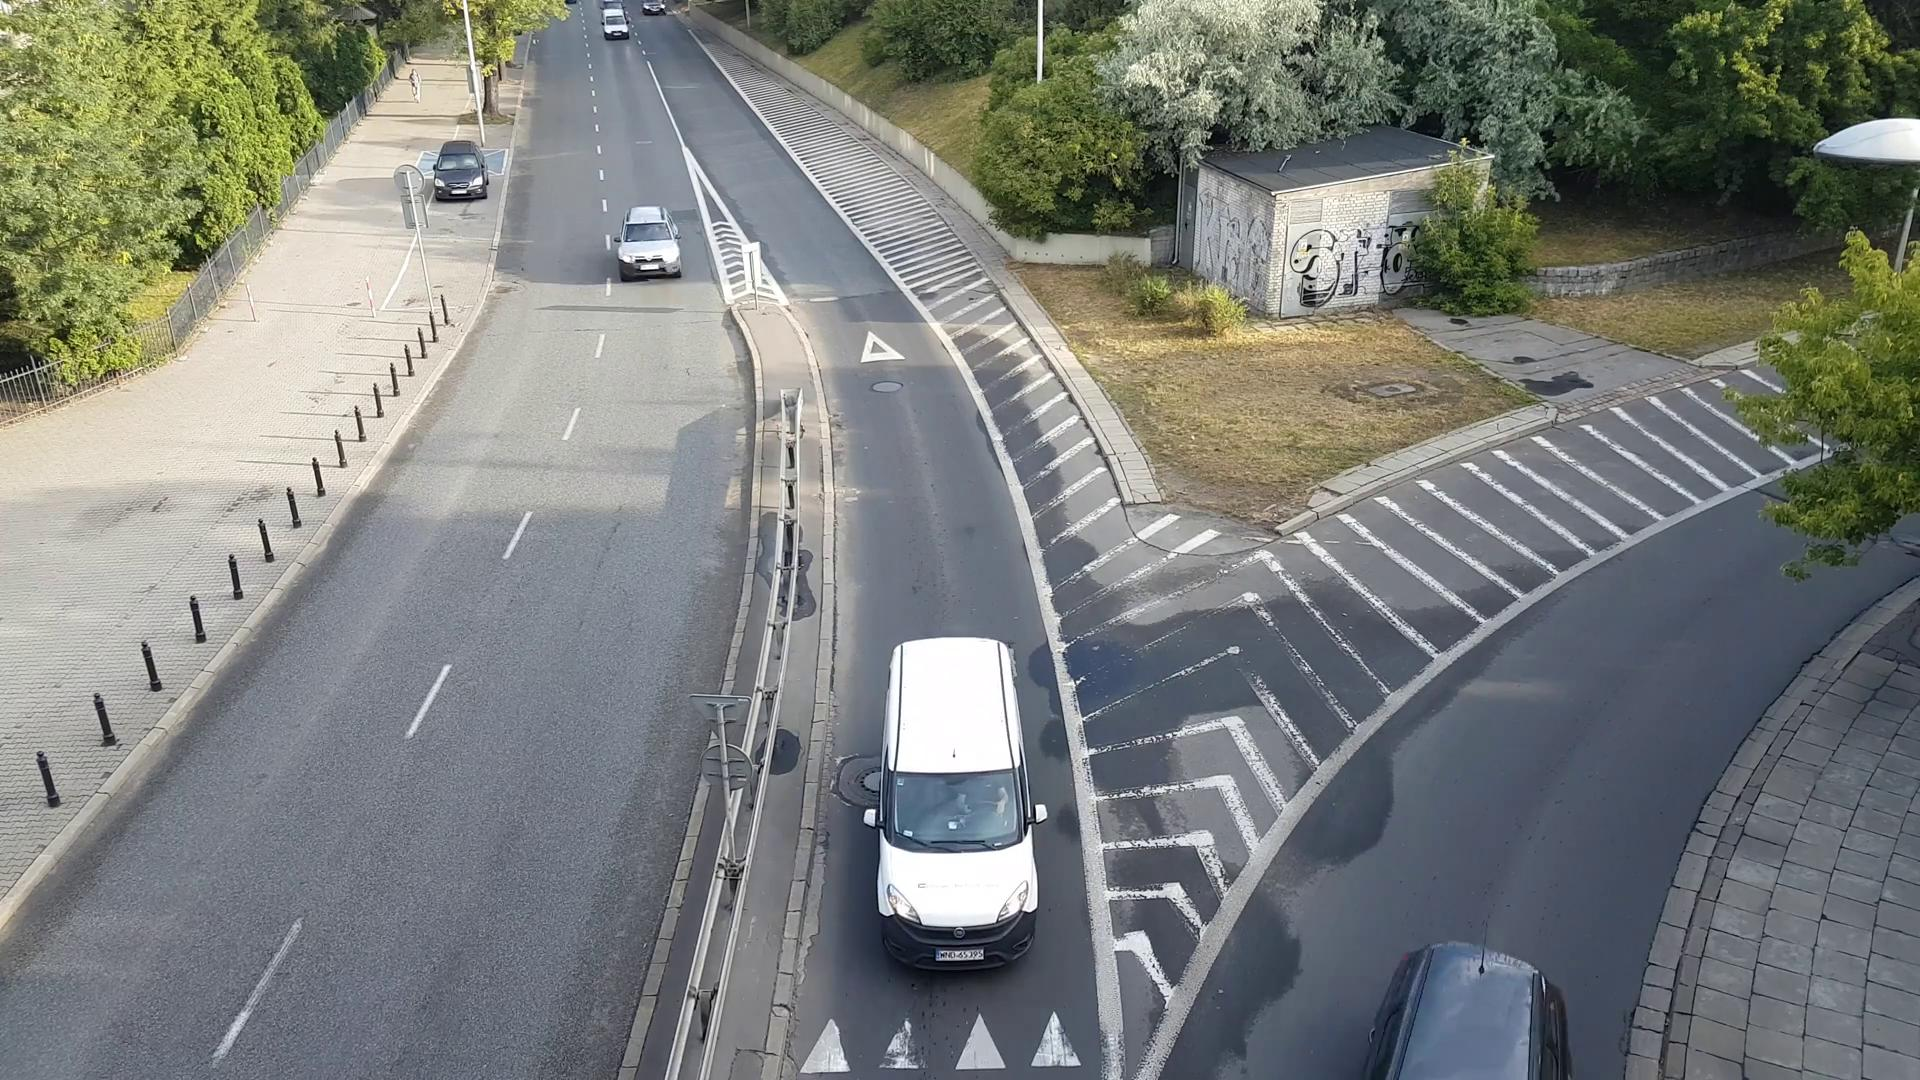car: (872, 629, 1048, 988), (1323, 936, 1596, 1075), (615, 203, 684, 281), (433, 135, 492, 203), (595, 7, 632, 38)
